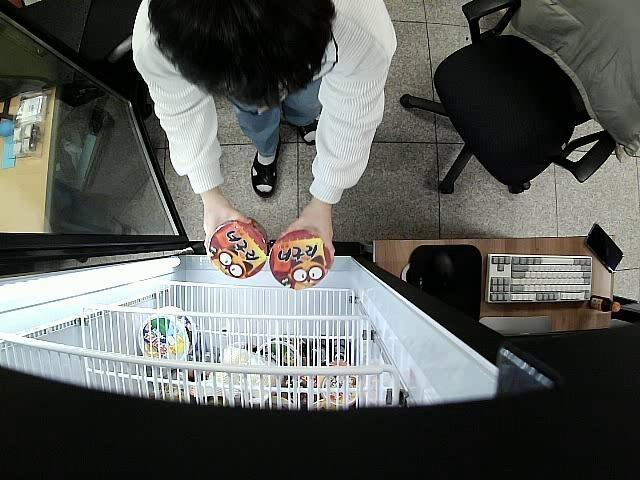05_nuguri_L: (210, 219, 268, 280), (270, 232, 330, 290)
